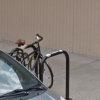Bicycle: (10, 24, 59, 100)
